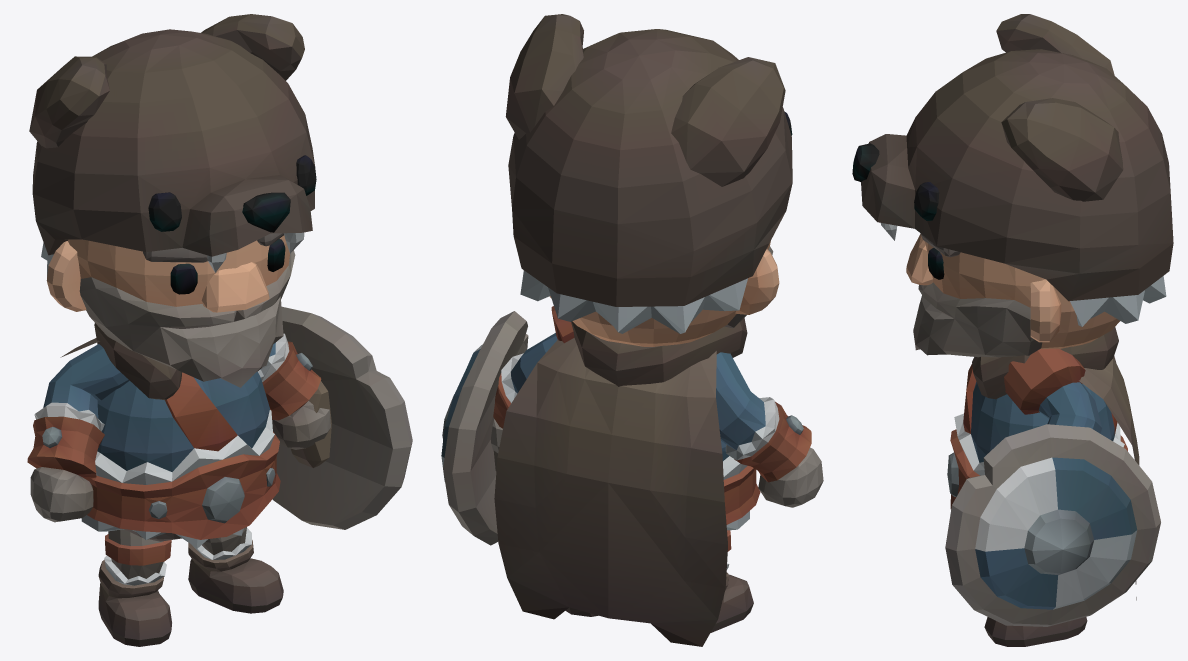
The model's file is barbarian.glb.
3 views of the same model, side by side, from view 1: azimuth 30°, elevation 25°; view 2: azimuth 150°, elevation 25°; view 3: azimuth 270°, elevation 25° (orthographic). The views are drawn at different scales.
Visible parts, largest first — view 1: barbarian; view 2: barbarian; view 3: barbarian.
Part boxes in pixels (x1,y1,x2,y2): barbarian: [27, 14, 412, 646]; barbarian: [441, 14, 823, 646]; barbarian: [852, 14, 1173, 646].
Size of the model in its own units: 0.637 by 0.9998 by 0.5328.
